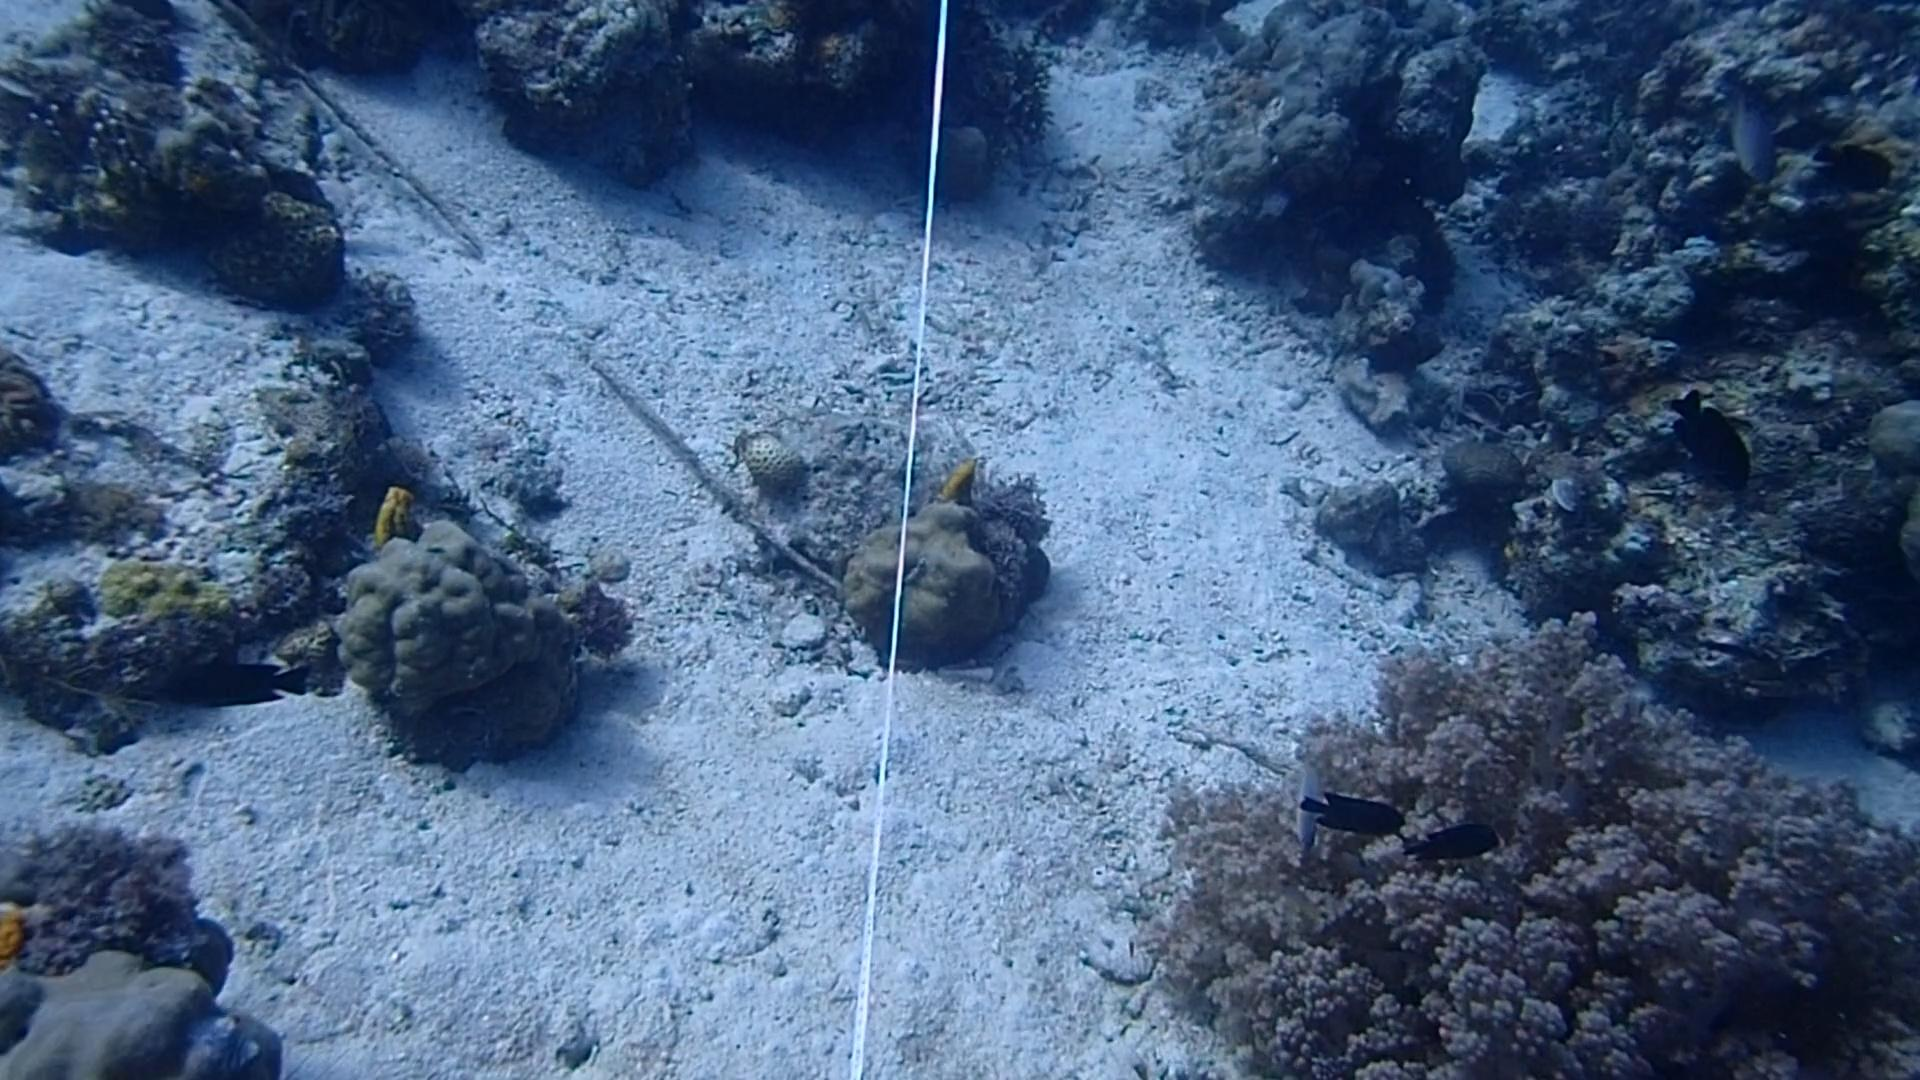Dark Fish: (1648, 384, 1767, 493), (149, 651, 309, 716), (1381, 798, 1509, 874), (1288, 781, 1406, 839), (1813, 138, 1907, 208)
Light Fish: (1712, 67, 1789, 186), (1279, 757, 1336, 860)
